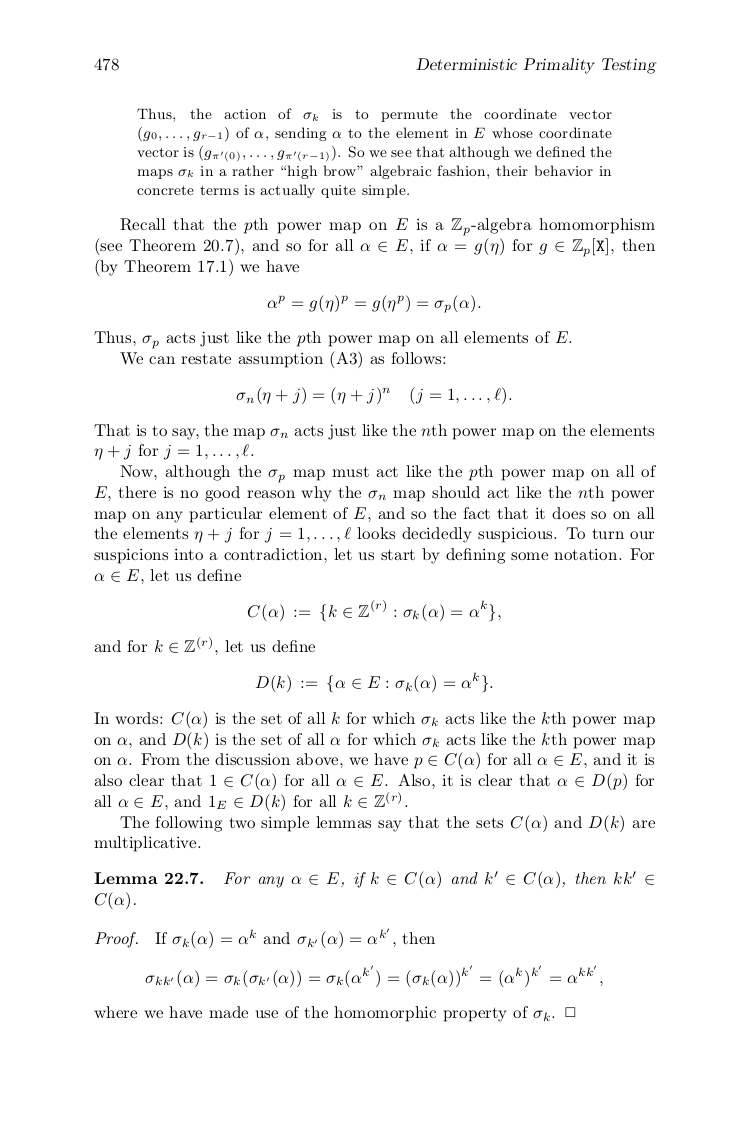formula: (145, 964, 602, 988), (95, 927, 434, 949), (247, 599, 500, 622), (236, 386, 511, 405), (255, 671, 492, 693), (267, 294, 480, 313)
